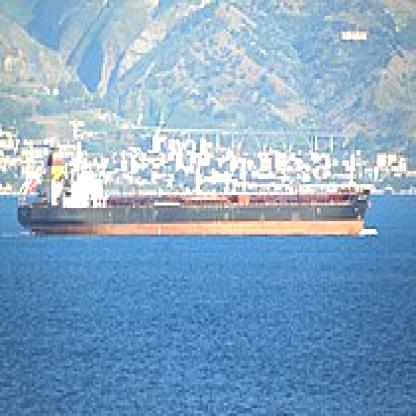Tanker: (30, 140, 376, 240)
